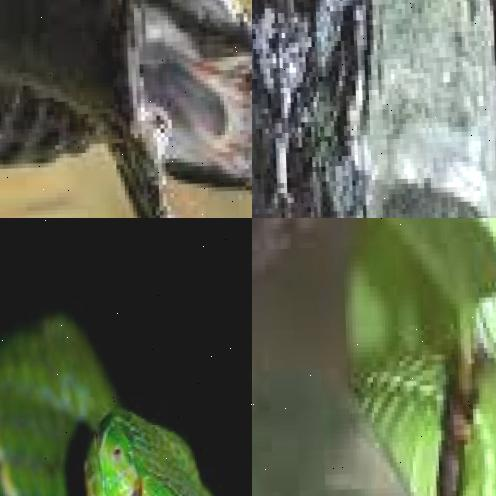snake: (252, 218, 496, 496), (0, 0, 252, 218), (252, 0, 496, 218), (0, 305, 252, 496)
